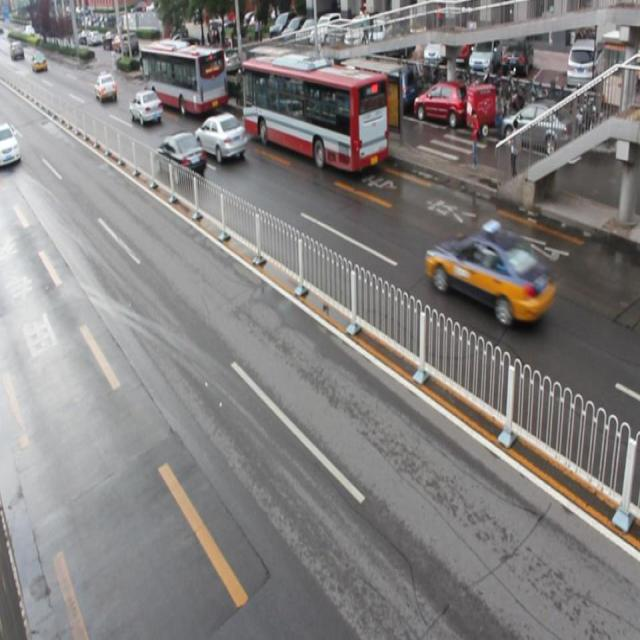car: (425, 228, 555, 324), (194, 111, 248, 163), (155, 130, 206, 184), (130, 90, 162, 126)
van: (244, 56, 388, 172), (141, 42, 228, 113)
